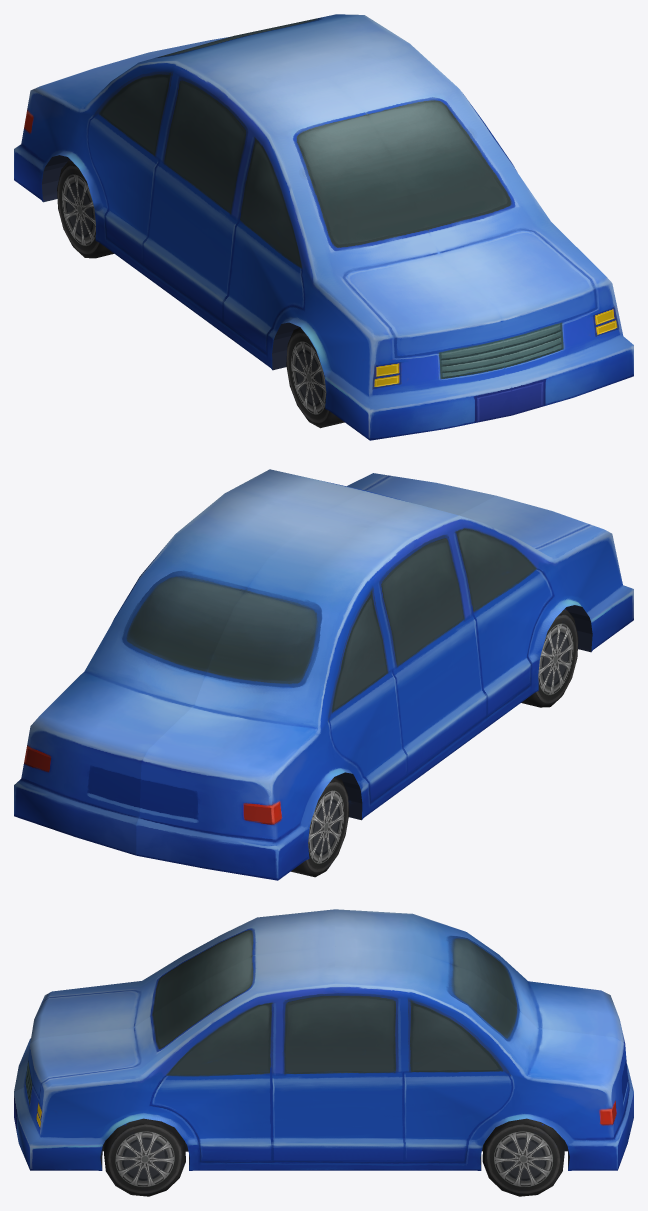
File: model_Mcar4.FBX
The picture shows the model from 3 angles, top to bottom: view 1: azimuth 30°, elevation 25°; view 2: azimuth 150°, elevation 25°; view 3: azimuth 270°, elevation 25°; orthographic projection. The views are drawn at different scales.
Visible parts, largest first — view 1: model_Mcar4; view 2: model_Mcar4; view 3: model_Mcar4.
Part boxes in pixels (x1,y1,x2,y2): model_Mcar4: (14, 14, 633, 440); model_Mcar4: (14, 469, 633, 880); model_Mcar4: (14, 909, 633, 1196).
Size of the model in its own units: 94.96 by 83.23 by 232.
